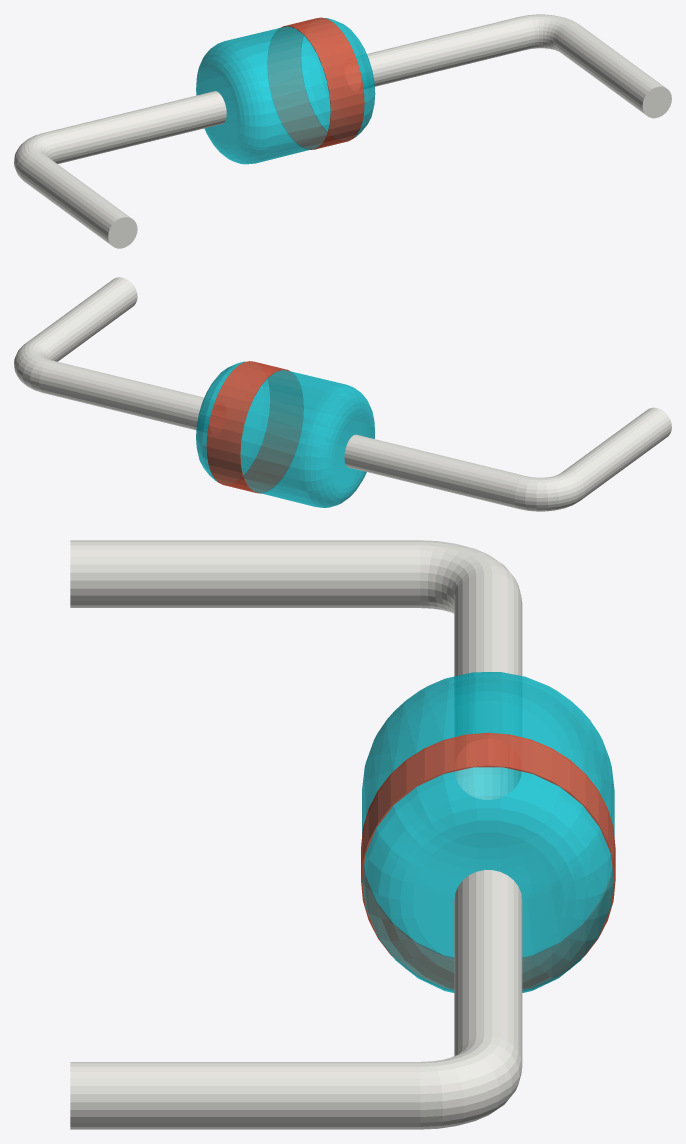
The model's file is D_T-1_P12.70mm_Horizontal.glb.
3 views of the same model, one above another, from view 1: azimuth 30°, elevation 25°; view 2: azimuth 150°, elevation 25°; view 3: azimuth 270°, elevation 25° (orthographic). The views are drawn at different scales.
Parts seen in each view (by area): view 1: Shape_IndexedFaceSet.004, Shape_IndexedFaceSet, Shape_IndexedFaceSet.010, Shape_IndexedFaceSet.007, Shape_IndexedFaceSet.006, Shape_IndexedFaceSet.014, Shape_IndexedFaceSet.011, Shape_IndexedFaceSet.003, Shape_IndexedFaceSet.008, Shape_IndexedFaceSet.009, Shape_IndexedFaceSet.012, Shape_IndexedFaceSet.013 (+2 smaller); view 2: Shape_IndexedFaceSet.004, Shape_IndexedFaceSet, Shape_IndexedFaceSet.010, Shape_IndexedFaceSet.007, Shape_IndexedFaceSet.006, Shape_IndexedFaceSet.014, Shape_IndexedFaceSet.011, Shape_IndexedFaceSet.003, Shape_IndexedFaceSet.012, Shape_IndexedFaceSet.008, Shape_IndexedFaceSet.009, Shape_IndexedFaceSet.005; view 3: Shape_IndexedFaceSet.003, Shape_IndexedFaceSet.006, Shape_IndexedFaceSet.004, Shape_IndexedFaceSet.011, Shape_IndexedFaceSet.014, Shape_IndexedFaceSet, Shape_IndexedFaceSet.010, Shape_IndexedFaceSet.007, Shape_IndexedFaceSet.005, Shape_IndexedFaceSet.008, Shape_IndexedFaceSet.009, Shape_IndexedFaceSet.012 (+1 smaller).
Part boxes in pixels (bbox=[...]): Shape_IndexedFaceSet.004: bbox=[209, 26, 330, 163]; Shape_IndexedFaceSet: bbox=[267, 17, 364, 149]; Shape_IndexedFaceSet.010: bbox=[45, 91, 226, 163]; Shape_IndexedFaceSet.007: bbox=[356, 16, 531, 88]; Shape_IndexedFaceSet.006: bbox=[196, 40, 271, 164]; Shape_IndexedFaceSet.014: bbox=[20, 153, 130, 245]; Shape_IndexedFaceSet.011: bbox=[555, 22, 665, 114]; Shape_IndexedFaceSet.003: bbox=[301, 18, 375, 137]; Shape_IndexedFaceSet.008: bbox=[199, 70, 237, 144]; Shape_IndexedFaceSet.009: bbox=[521, 14, 576, 51]; Shape_IndexedFaceSet.012: bbox=[14, 132, 56, 180]; Shape_IndexedFaceSet.013: bbox=[642, 86, 671, 118]; Shape_IndexedFaceSet.004: bbox=[240, 370, 362, 506]; Shape_IndexedFaceSet: bbox=[206, 361, 303, 492]; Shape_IndexedFaceSet.010: bbox=[344, 434, 526, 508]; Shape_IndexedFaceSet.007: bbox=[39, 360, 214, 431]; Shape_IndexedFaceSet.006: bbox=[299, 384, 375, 507]; Shape_IndexedFaceSet.014: bbox=[562, 407, 671, 499]; Shape_IndexedFaceSet.011: bbox=[27, 277, 137, 361]; Shape_IndexedFaceSet.003: bbox=[196, 361, 269, 481]; Shape_IndexedFaceSet.012: bbox=[515, 471, 584, 511]; Shape_IndexedFaceSet.008: bbox=[334, 414, 371, 487]; Shape_IndexedFaceSet.009: bbox=[14, 341, 50, 392]; Shape_IndexedFaceSet.005: bbox=[199, 382, 223, 453]; Shape_IndexedFaceSet.003: bbox=[362, 767, 614, 992]; Shape_IndexedFaceSet.006: bbox=[362, 672, 614, 899]; Shape_IndexedFaceSet.004: bbox=[362, 676, 614, 956]; Shape_IndexedFaceSet.011: bbox=[70, 1062, 420, 1129]; Shape_IndexedFaceSet.014: bbox=[70, 540, 420, 607]; Shape_IndexedFaceSet: bbox=[361, 732, 615, 989]; Shape_IndexedFaceSet.010: bbox=[454, 572, 522, 799]; Shape_IndexedFaceSet.007: bbox=[454, 870, 522, 1065]; Shape_IndexedFaceSet.005: bbox=[412, 832, 563, 960]; Shape_IndexedFaceSet.008: bbox=[415, 701, 561, 836]; Shape_IndexedFaceSet.009: bbox=[420, 1036, 522, 1129]; Shape_IndexedFaceSet.012: bbox=[420, 540, 520, 613].
Size of the model in its own units: 5.28 by 1.03 by 2.21.
